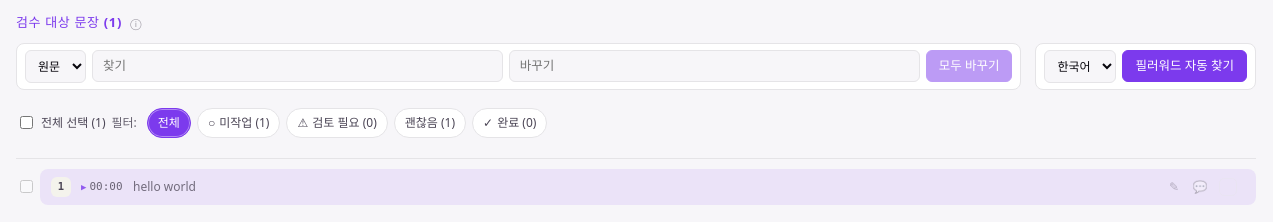
Scenario: SegmentList › shows a filter-specific empty hint when no segment matches the active filter
Click the button "✓ 완료 (0)".
click(510, 122)  # box [472,108,548,138]
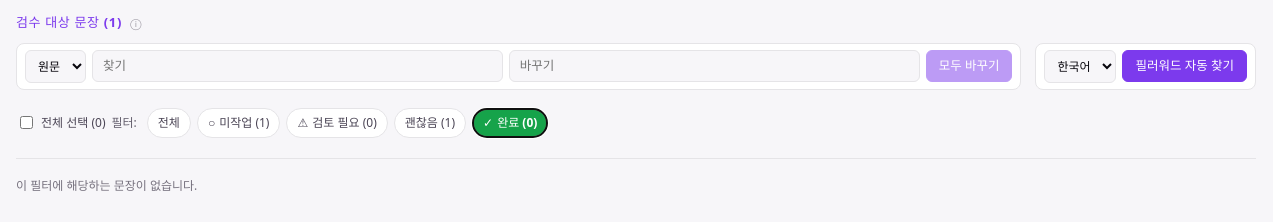
expect the text "이 필터에 해당하는 문장이 없습니다." is shown: met, box [16,176,197,194]
